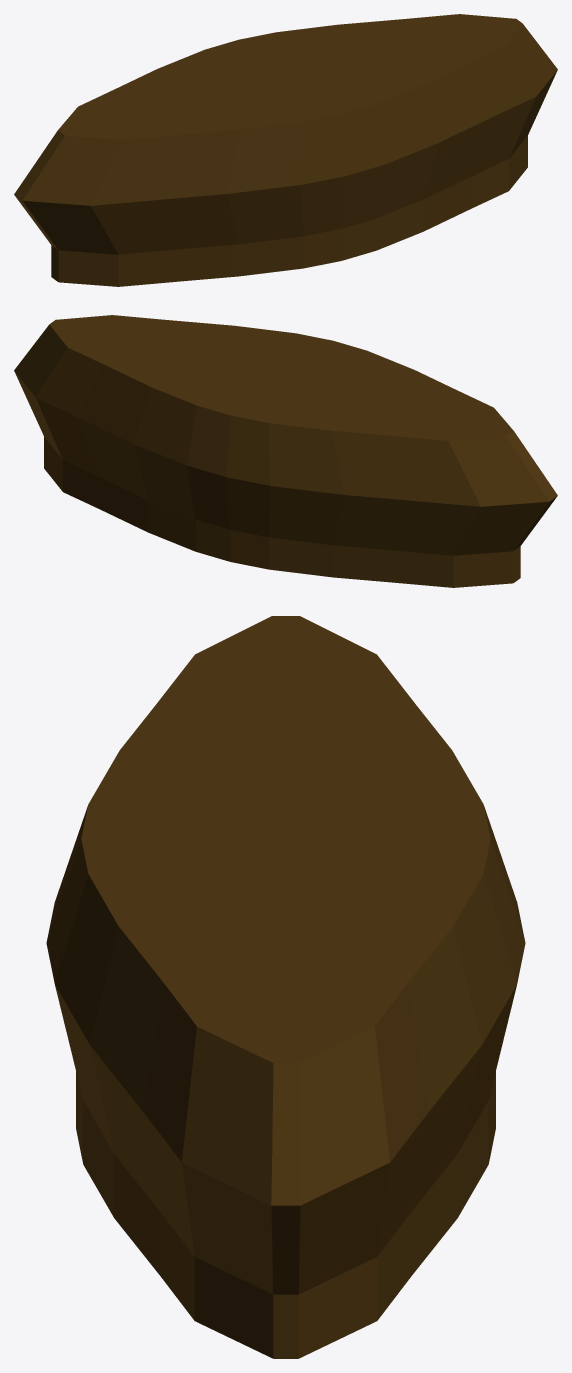
File: Deck.glb
3 renders of one model, top to bottom at view 1: azimuth 30°, elevation 25°; view 2: azimuth 150°, elevation 25°; view 3: azimuth 270°, elevation 25°, orthographic. The views are drawn at different scales.
Parts seen in each view (by area): view 1: boat.003; view 2: boat.003; view 3: boat.003.
Boxes of the visible parts, x1,y1,x2,y2 form: boat.003: (14,14,557,286); boat.003: (14,315,557,587); boat.003: (46,616,525,1358).
Bounding box in the file's own units: 123 × 31.76 × 47.48.
